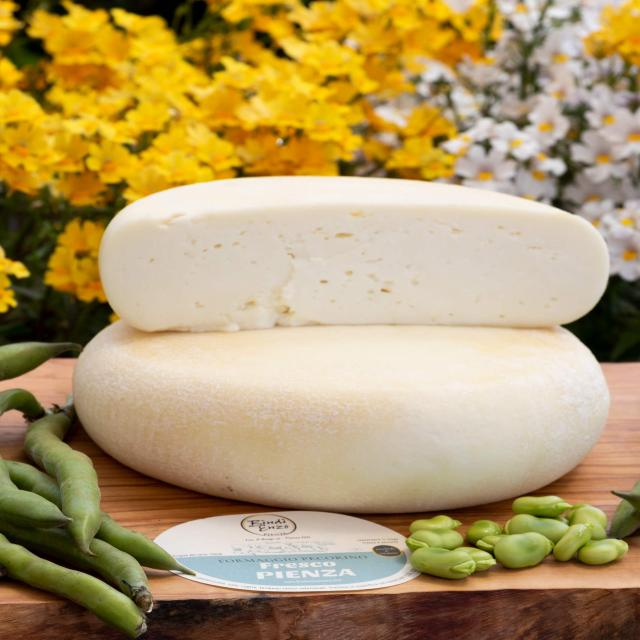Cheese: (62, 290, 616, 512), (104, 165, 613, 340)
